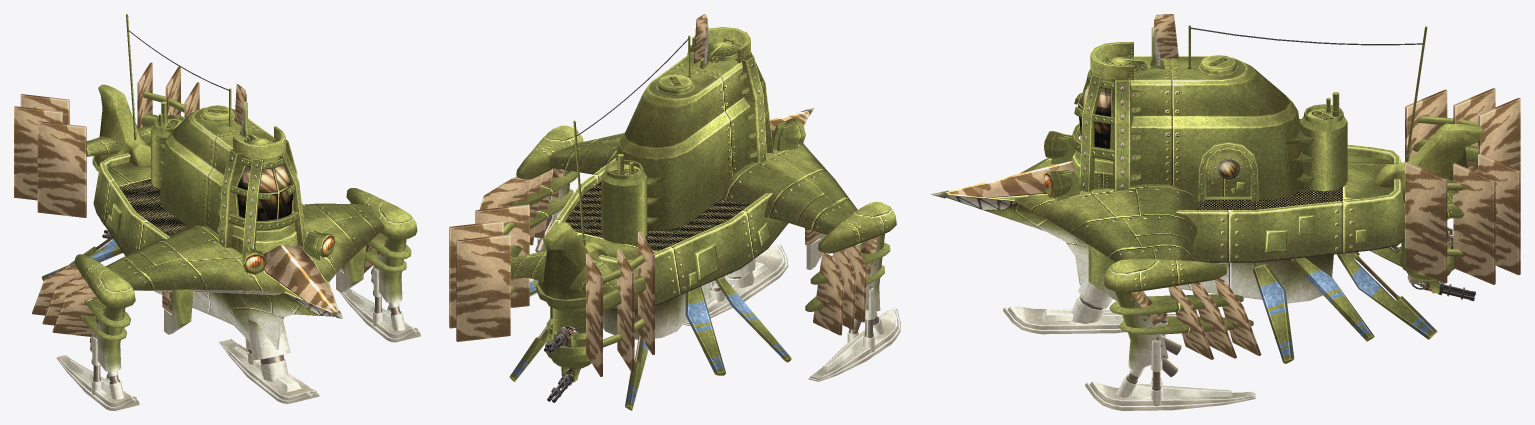
3 renders of one model, left to right at view 1: azimuth 30°, elevation 25°; view 2: azimuth 150°, elevation 25°; view 3: azimuth 270°, elevation 25°, orthographic. The views are drawn at different scales.
Visible parts, largest first — view 1: mesh_Mesh_map; view 2: mesh_Mesh_map; view 3: mesh_Mesh_map.
Boxes of the visible parts, x1=… form: mesh_Mesh_map: x1=14, y1=14, x2=420, y2=410; mesh_Mesh_map: x1=449, y1=14, x2=900, y2=410; mesh_Mesh_map: x1=930, y1=14, x2=1520, y2=410.
Bounding box in the file's own units: 15.53 × 11.99 × 20.66.
17 materials, 17 textured.
